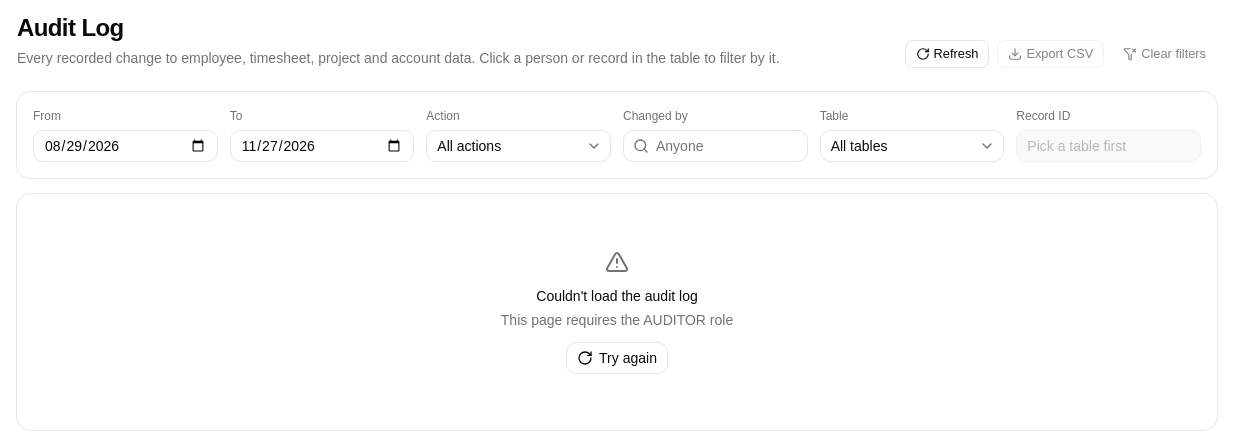
Test: shows the API error with a retry when the log cannot load
Check: the text "This page requires the AUDITOR role" is shown, box [501,310,733,330]
What coordinates should you click on to do the following:
click the button "Try again"
I would click on:
 (617, 358)
Its box is [566,342,668,374].
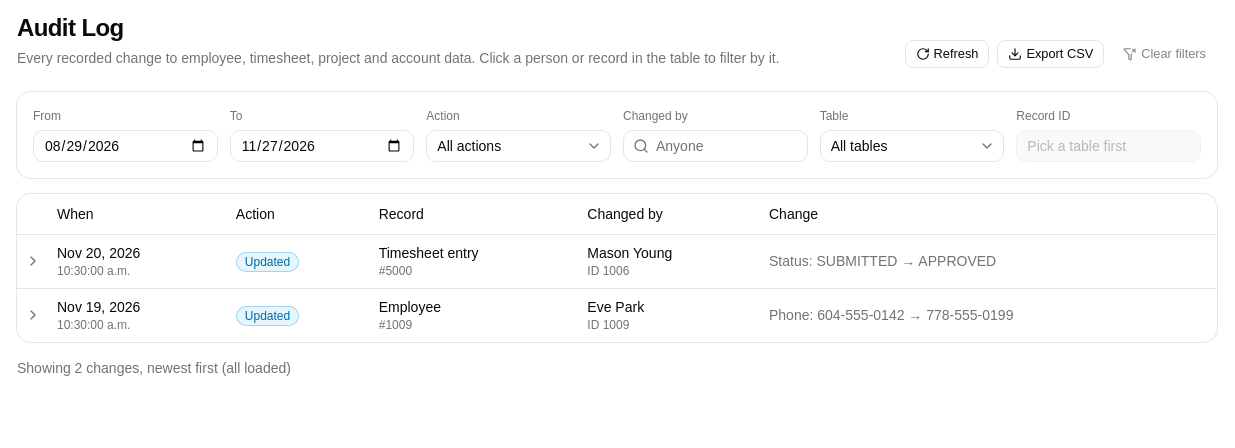
Check: the text "Mason Young" is shown, box [587,242,672,262]
